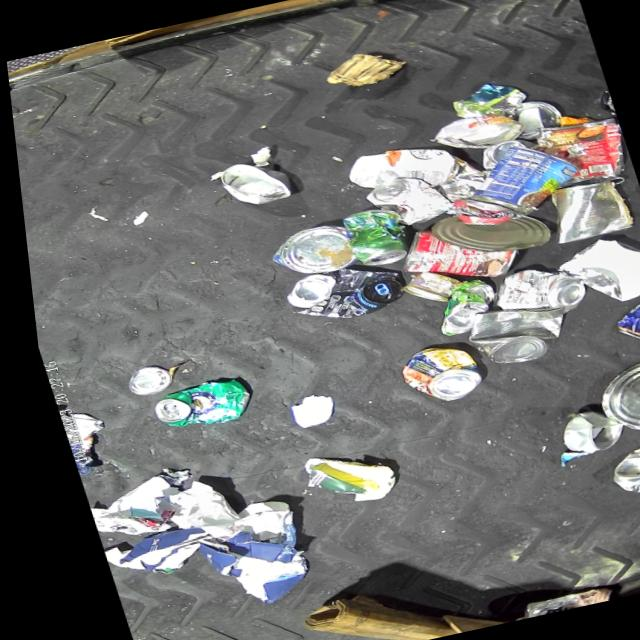can: (450, 134, 588, 226), (384, 211, 519, 295), (270, 256, 402, 330), (450, 294, 571, 372), (420, 197, 549, 266), (528, 112, 628, 190), (135, 374, 248, 436), (478, 259, 584, 325), (532, 174, 631, 244), (384, 339, 478, 409), (354, 170, 452, 233), (256, 220, 352, 282), (577, 350, 640, 439), (424, 108, 525, 158), (332, 206, 408, 272), (206, 154, 289, 212), (418, 277, 497, 337), (546, 403, 620, 458), (502, 584, 601, 618), (590, 434, 640, 500), (391, 265, 459, 310), (595, 281, 640, 346), (503, 96, 563, 142), (470, 136, 536, 170), (113, 362, 166, 398)
